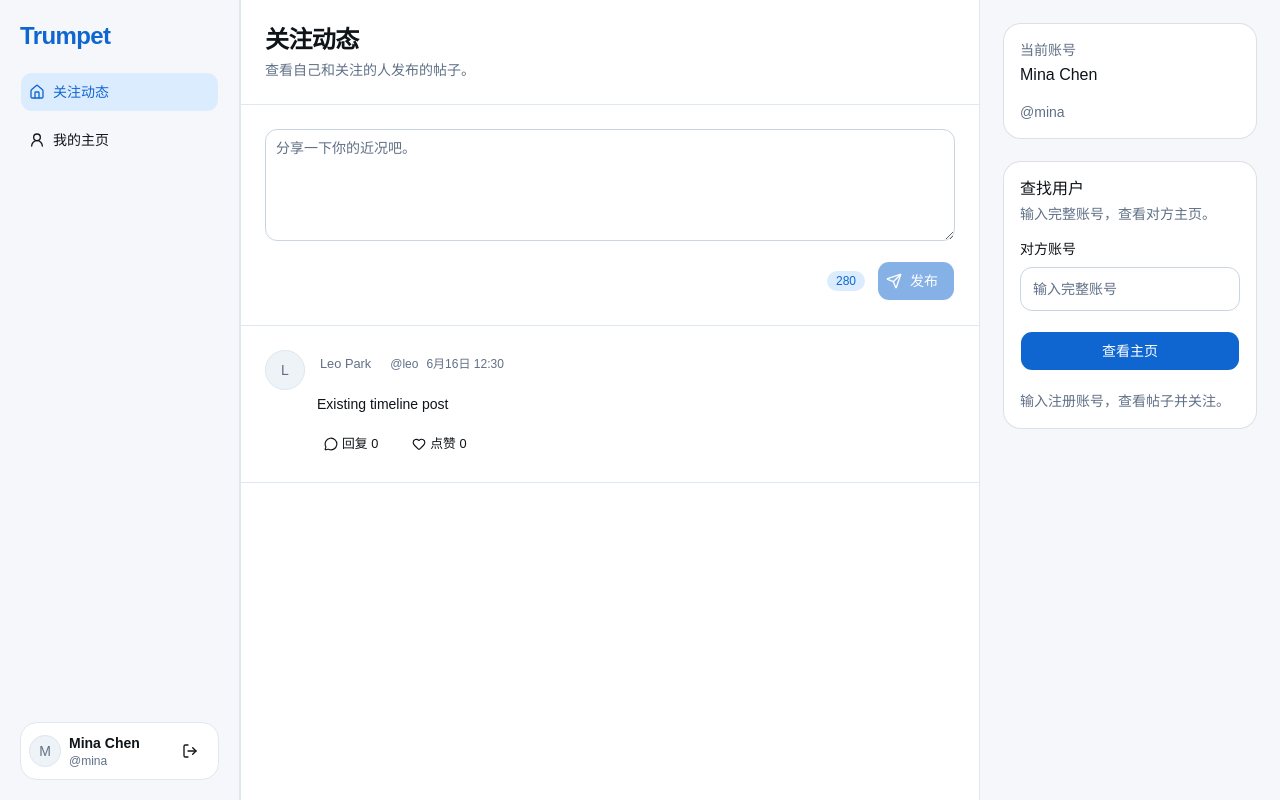
Test: App timeline interactions › does not submit an empty reply
Expected: the text "Existing timeline post" is shown, [317,396,448,412]
Click the button "回复 0" at (353, 444), box [317,430,389,458]
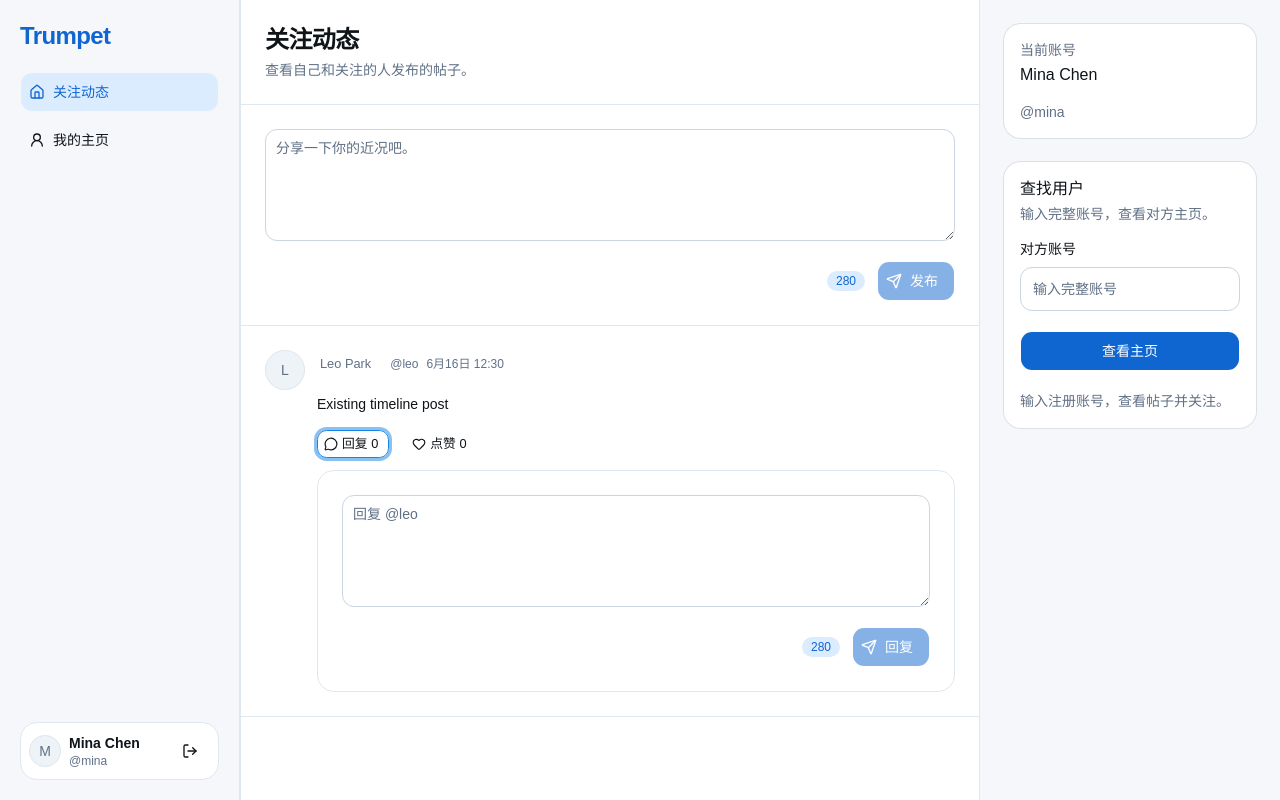
Expected: the button "回复" is disabled, [852,627,930,667]
